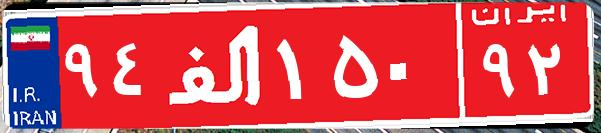0: (385, 28, 445, 110)
1: (273, 28, 330, 110)
2: (525, 38, 570, 115)
4: (110, 28, 158, 105)
5: (330, 28, 385, 110)
9: (57, 26, 110, 107), (475, 38, 525, 113)
الف: (158, 15, 273, 115)
